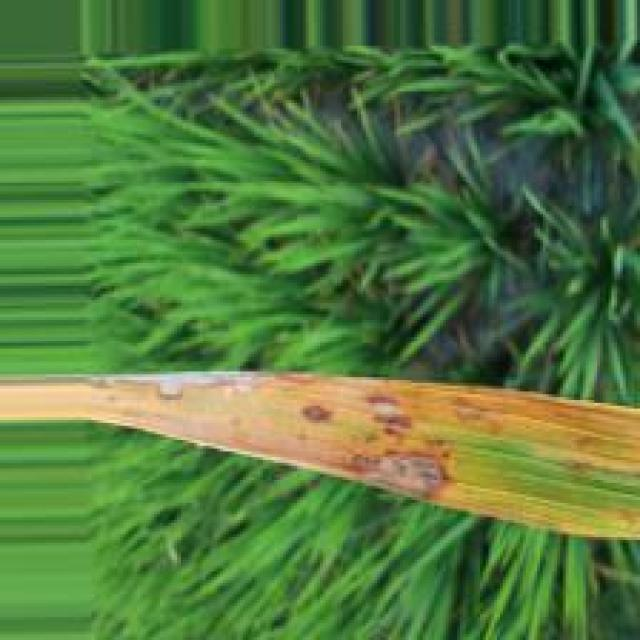Narrow_Brown_Leaf_Spot: (0, 368, 640, 542)
